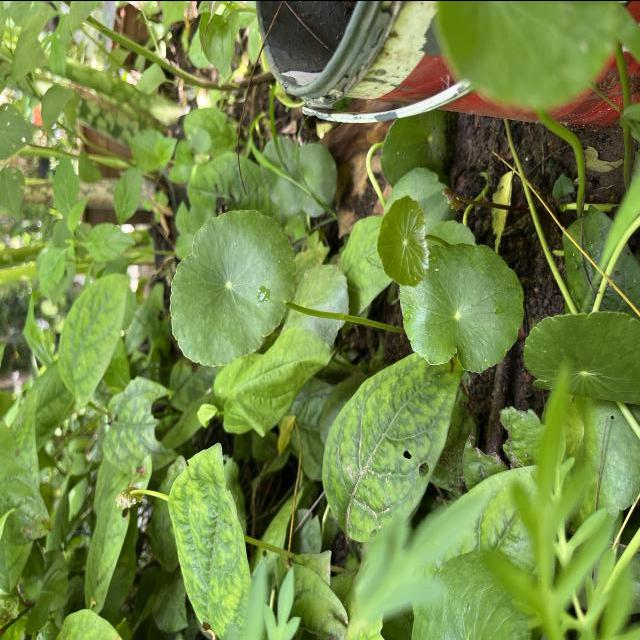Bacopa monnieri: (166, 205, 299, 368), (396, 240, 526, 374), (374, 192, 432, 288)
